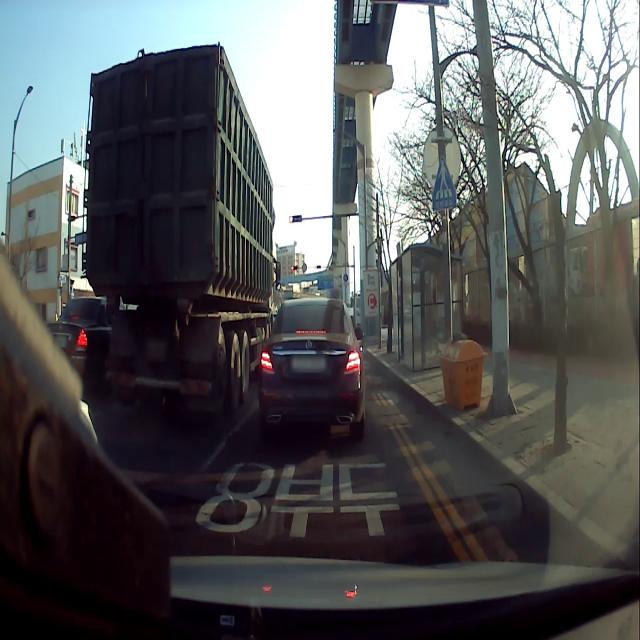Red Light: (288, 215, 294, 222)
